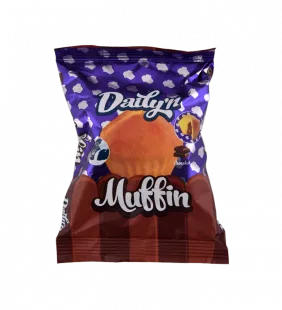DAILY'N: (45, 36, 236, 275)
